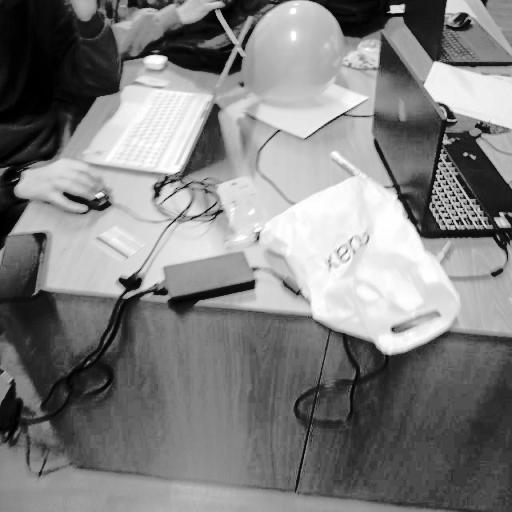balloon: (236, 0, 345, 110)
